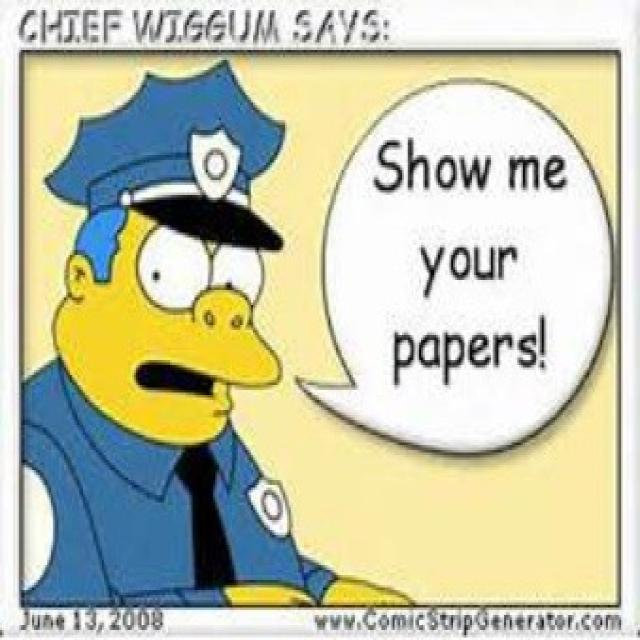Chief Wiggam: (37, 62, 290, 458)
